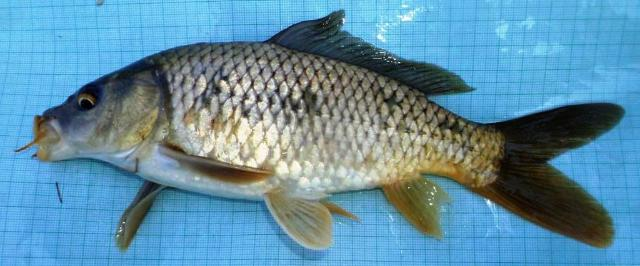Mulut: (18, 84, 62, 182)
Sirip Anal: (380, 168, 456, 244)
Sirip Dada: (110, 140, 282, 264)
Sirip Ekor: (494, 89, 634, 262)
Sirip Perut: (258, 182, 366, 260)
Sirip Punggung: (256, 3, 486, 110)
